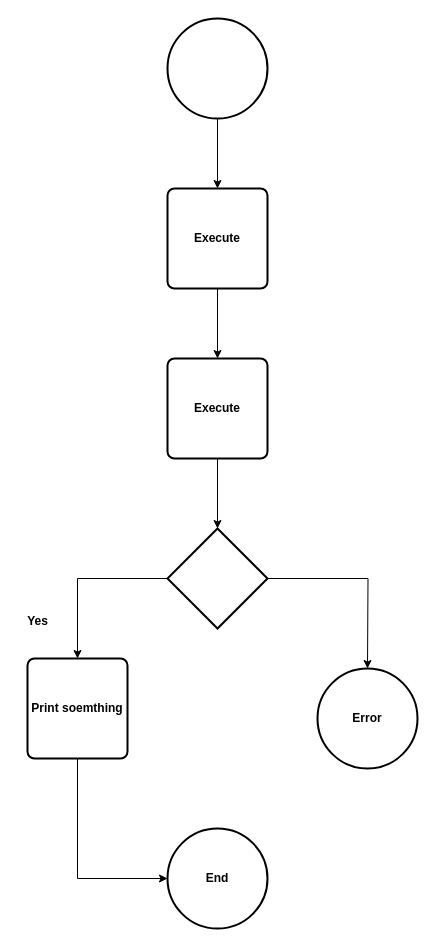
Image size: 435x946. Some labels were removed from this diagram. The centre of each missing label's shape, as x and y in pixels:
"Condition" goes at (217,578).
"Start" goes at (217,68).
